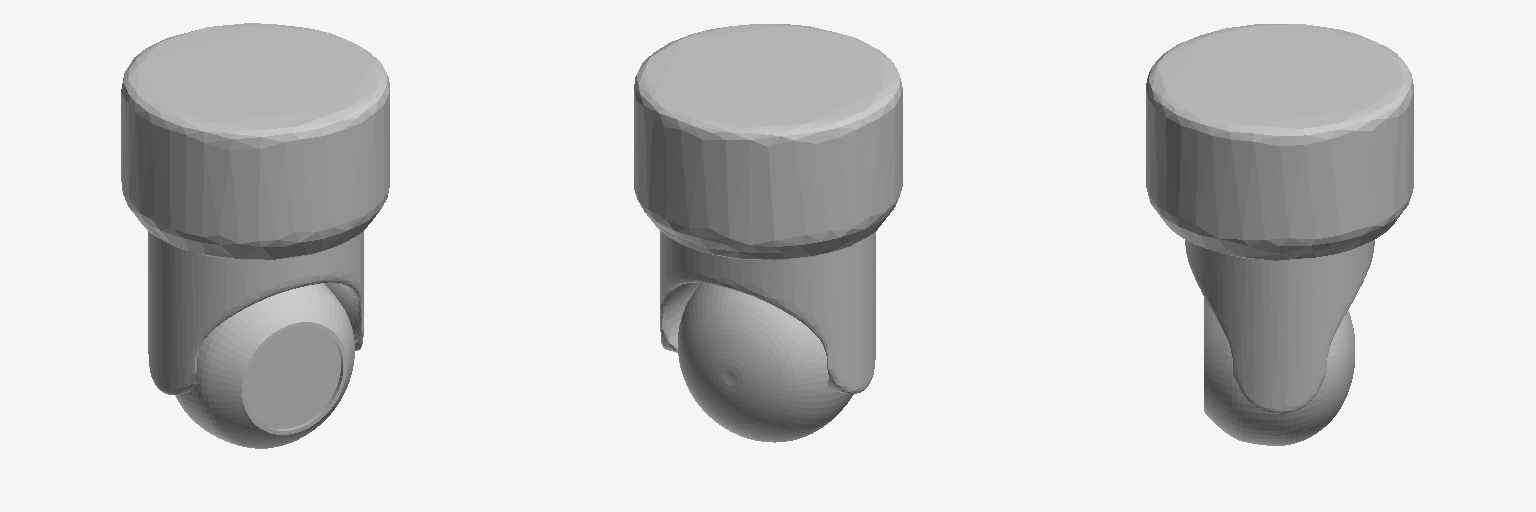
File: cctv_camera.obj
3 views of the same model, side by side, from view 1: azimuth 30°, elevation 25°; view 2: azimuth 150°, elevation 25°; view 3: azimuth 270°, elevation 25° (orthographic).
Parts seen in each view (by area): view 1: Cylinder, Cylinder_2, Sphere_4, Plane_1; view 2: Cylinder, Sphere_4, Cylinder_2; view 3: Cylinder, Cylinder_2, Sphere_4.
Part boxes in pixels (x1,y1,x2,y2): Cylinder: (121, 23, 389, 259); Cylinder_2: (148, 231, 363, 394); Sphere_4: (175, 283, 354, 448); Plane_1: (246, 326, 340, 428); Cylinder: (634, 24, 902, 260); Sphere_4: (678, 283, 853, 442); Cylinder_2: (660, 231, 875, 393); Cylinder: (1146, 24, 1413, 260); Cylinder_2: (1185, 240, 1374, 413); Sphere_4: (1204, 297, 1354, 445).
Size of the model in its own units: 1.57 by 2.33 by 1.58.